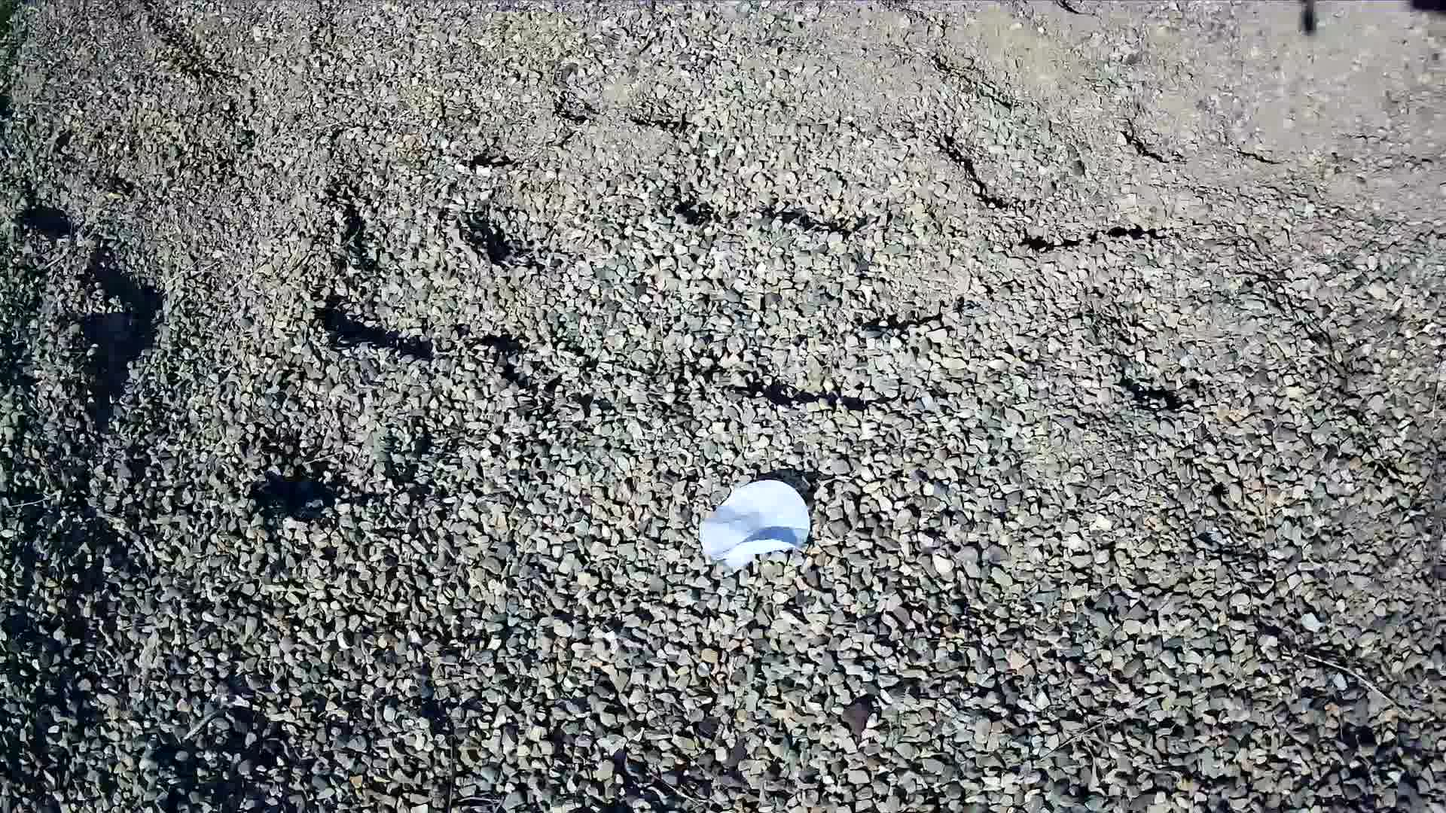Target: (699, 481, 807, 563)
